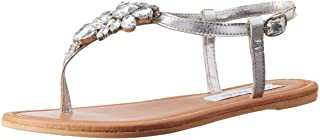shoes: (1, 1, 320, 139)
